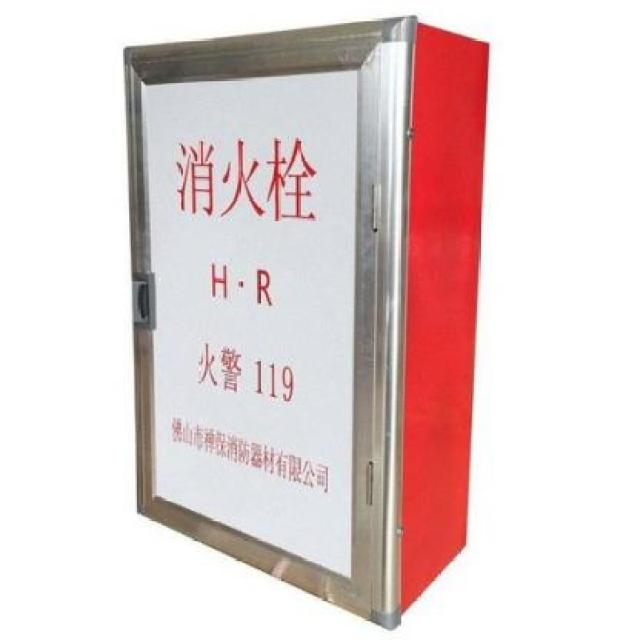firehydrant: (119, 8, 498, 636)
